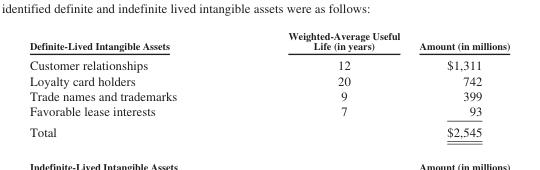table: (28, 29, 509, 138)
table column: (28, 29, 231, 138), (231, 29, 408, 138), (408, 29, 509, 138)
table column header: (28, 29, 509, 54)
table row: (28, 29, 509, 54), (28, 54, 509, 72), (28, 103, 509, 121), (28, 121, 509, 138), (28, 72, 509, 88), (28, 88, 509, 103)
